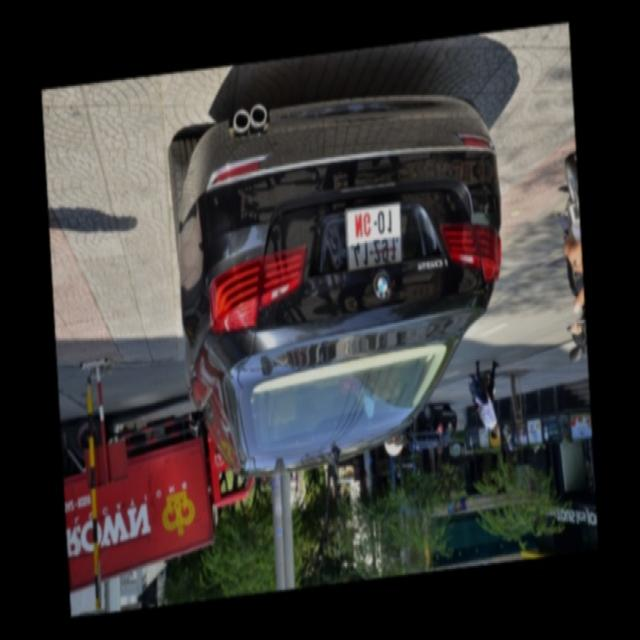bien_ngoai_giao: (345, 199, 405, 278)
